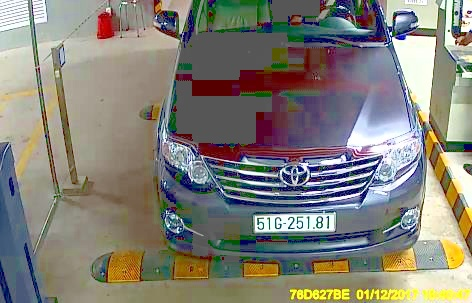plate: (254, 210, 335, 233)
